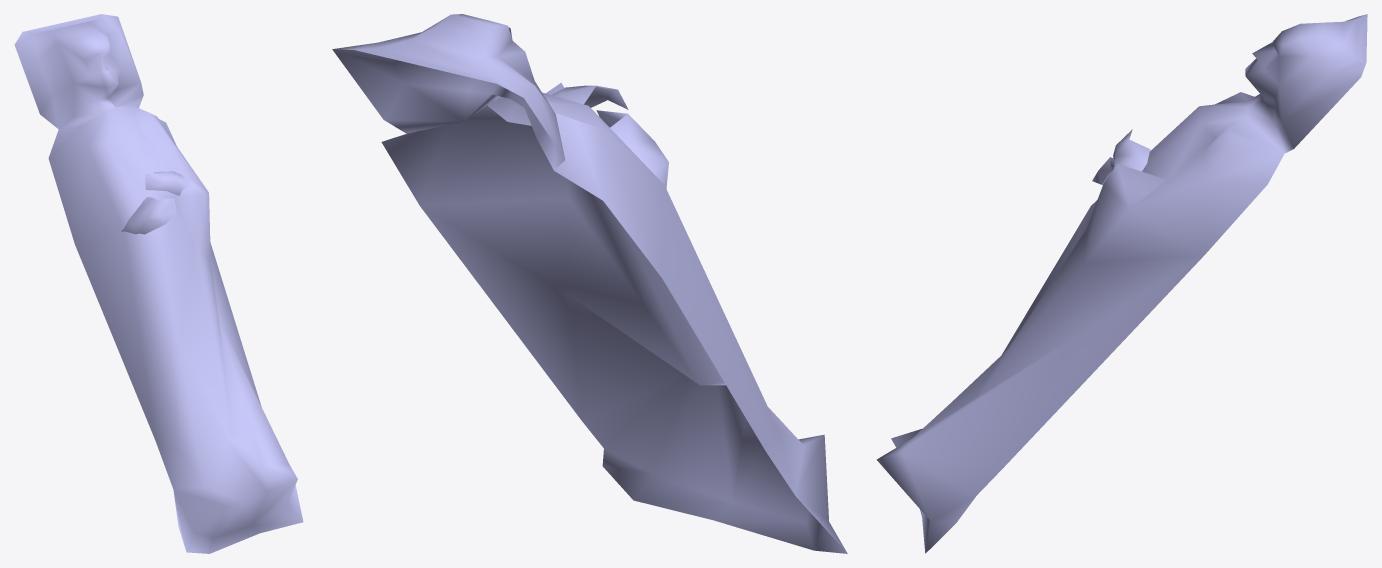
3 views of the same model, side by side, from view 1: azimuth 30°, elevation 25°; view 2: azimuth 150°, elevation 25°; view 3: azimuth 270°, elevation 25° (orthographic). The views are drawn at different scales.
Parts seen in each view (by area): view 1: Object38; view 2: Object38; view 3: Object38.
Part boxes in pixels (bbox=[...]): Object38: bbox=[14, 14, 303, 553]; Object38: bbox=[332, 14, 847, 553]; Object38: bbox=[876, 14, 1367, 553].
Bounding box in the file's own units: 87.73 × 263 × 236.
